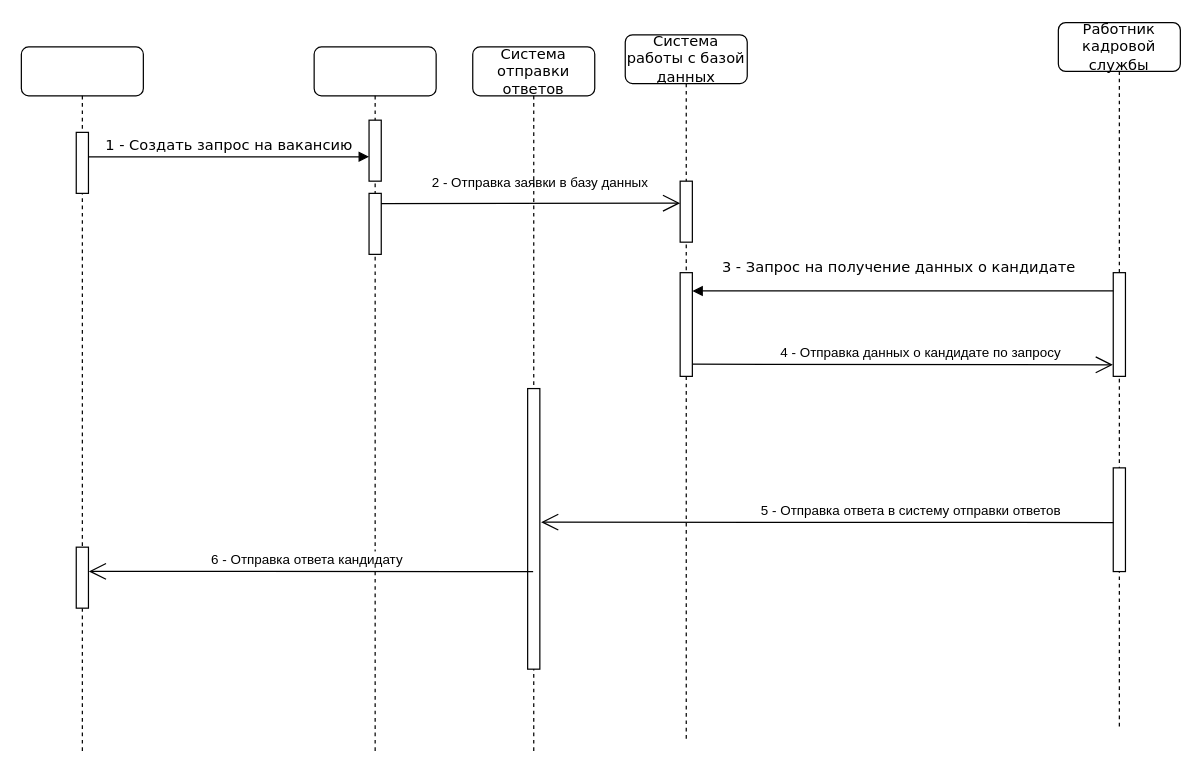
The diagram is 1202 pixels wide and 776 high, and some of its shapes have lost their labels. The shapes that lost their labels are listed below. From the top down, each one's box as (x1, y1, x2, y2) in pixels, then its label:
(20, 46, 143, 755): Кандидат
(313, 46, 436, 755): Система обработки заявок
